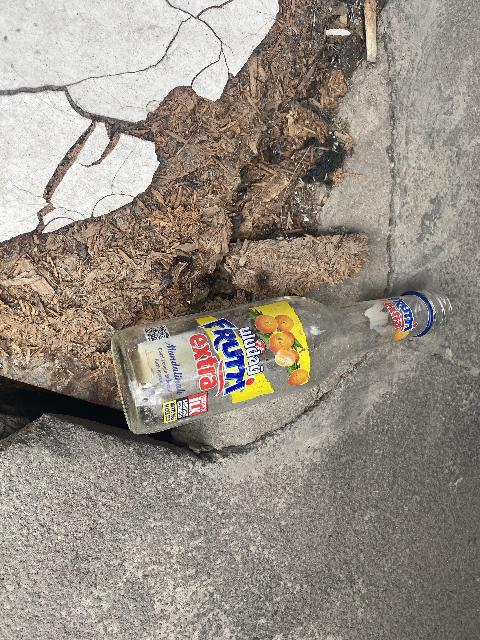Cam: (106, 289, 459, 432)
Plastik: (127, 286, 302, 427), (383, 289, 421, 349)
